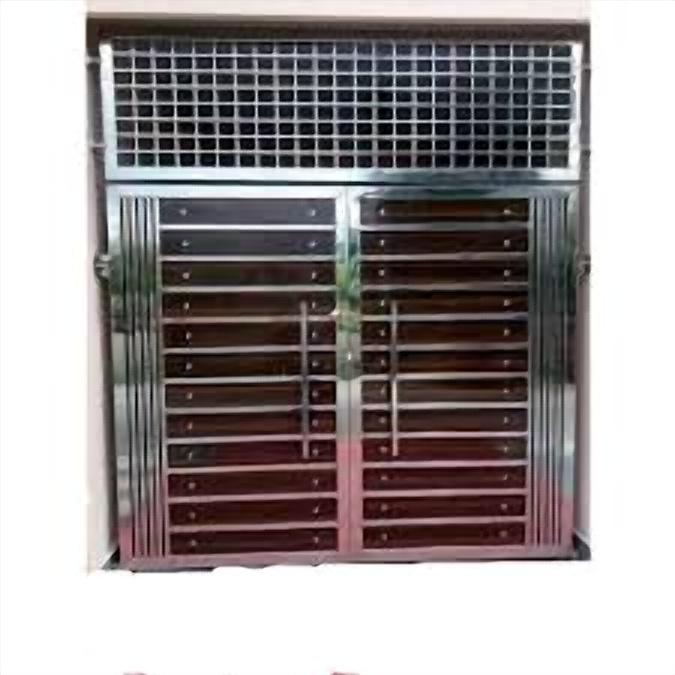Gate: (93, 36, 588, 573)
